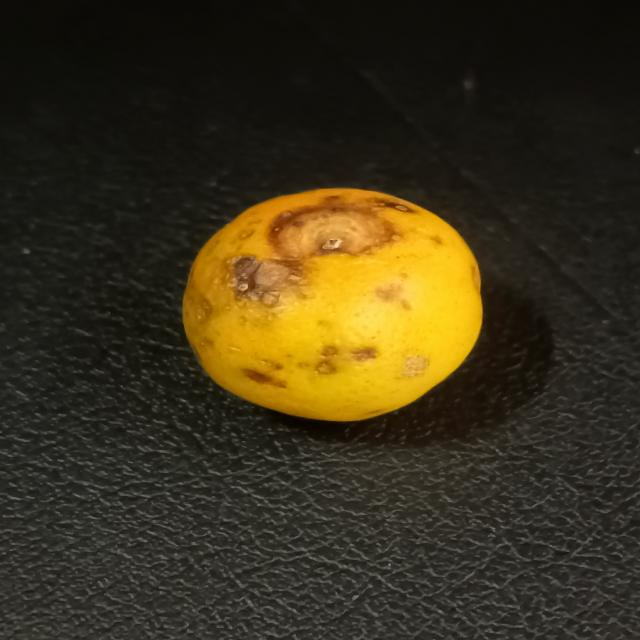black spot: (169, 181, 491, 428)
